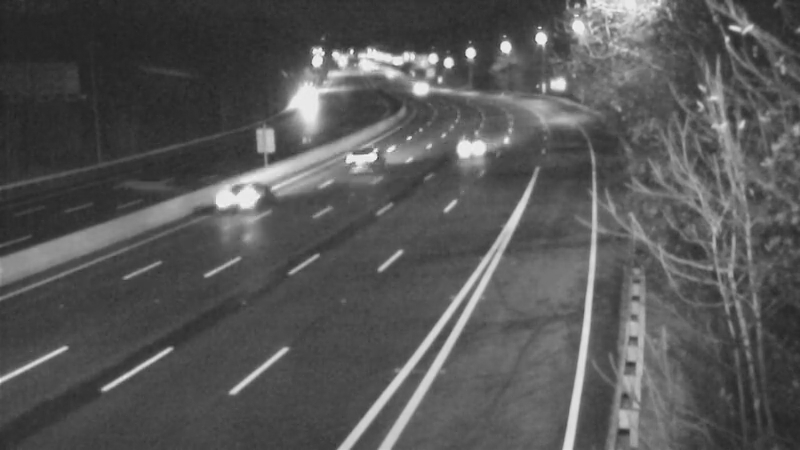vehicle: (325, 116, 405, 196), (197, 154, 277, 234), (394, 59, 444, 109), (437, 125, 487, 175)
